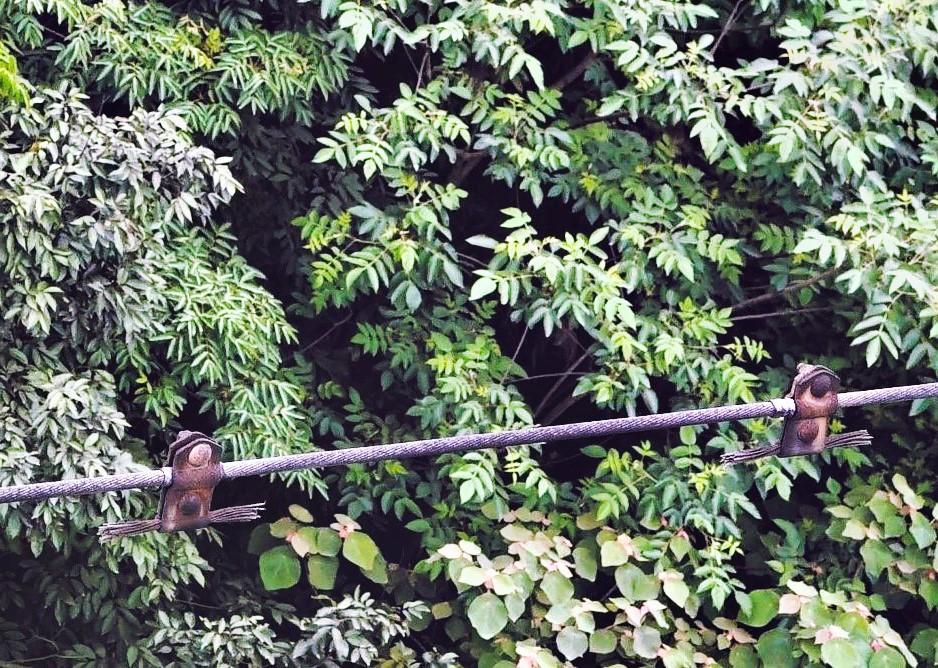Damage of shockproof hammer: (89, 418, 271, 551), (707, 359, 886, 471)
